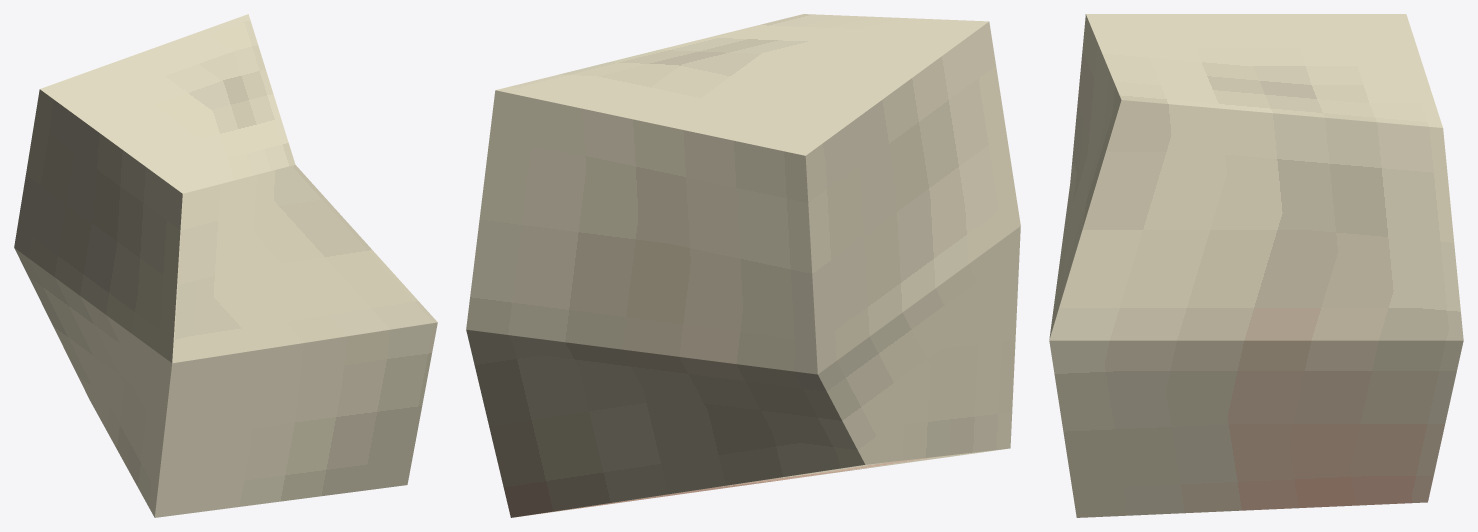
File: skull_gib2.glb
3 views of the same model, side by side, from view 1: azimuth 30°, elevation 25°; view 2: azimuth 150°, elevation 25°; view 3: azimuth 270°, elevation 25° (orthographic). The views are drawn at different scales.
Visible parts, largest first — view 1: Cube; view 2: Cube; view 3: Cube.
Boxes of the visible parts, x1,y1,x2,y2 form: Cube: (14,14,437,517); Cube: (466,14,1020,517); Cube: (1049,14,1463,517).
Bounding box in the file's own units: 0.2901 × 0.3719 × 0.356.
1 material, 1 textured.
